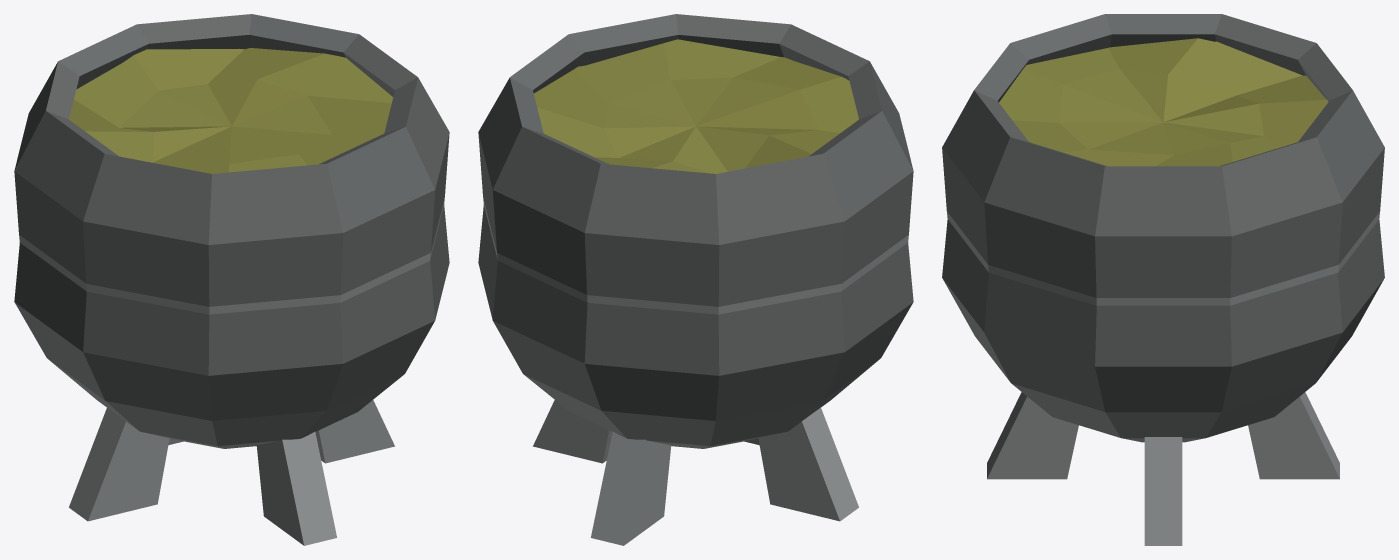
Rendered from Cauldron_4_Gray.fbx.
The picture shows the model from 3 angles, left to right: view 1: azimuth 30°, elevation 25°; view 2: azimuth 150°, elevation 25°; view 3: azimuth 270°, elevation 25°; orthographic projection.
Parts seen in each view (by area): view 1: Cauldron_1_Gray_Part_1, Cauldron_1_Gray_Part_3, Cauldron_1_Gray_Part_2; view 2: Cauldron_1_Gray_Part_1, Cauldron_1_Gray_Part_3, Cauldron_1_Gray_Part_2; view 3: Cauldron_1_Gray_Part_1, Cauldron_1_Gray_Part_3, Cauldron_1_Gray_Part_2.
Boxes of the visible parts, <box> form: Cauldron_1_Gray_Part_1: <box>14,14,449,448</box>; Cauldron_1_Gray_Part_3: <box>69,48,393,173</box>; Cauldron_1_Gray_Part_2: <box>19,197,444,545</box>; Cauldron_1_Gray_Part_1: <box>478,14,913,448</box>; Cauldron_1_Gray_Part_3: <box>534,39,858,173</box>; Cauldron_1_Gray_Part_2: <box>483,197,908,545</box>; Cauldron_1_Gray_Part_1: <box>942,14,1384,442</box>; Cauldron_1_Gray_Part_3: <box>999,38,1328,166</box>; Cauldron_1_Gray_Part_2: <box>947,211,1379,545</box>.
Size of the model in its own units: 95.89 by 95.75 by 101.
